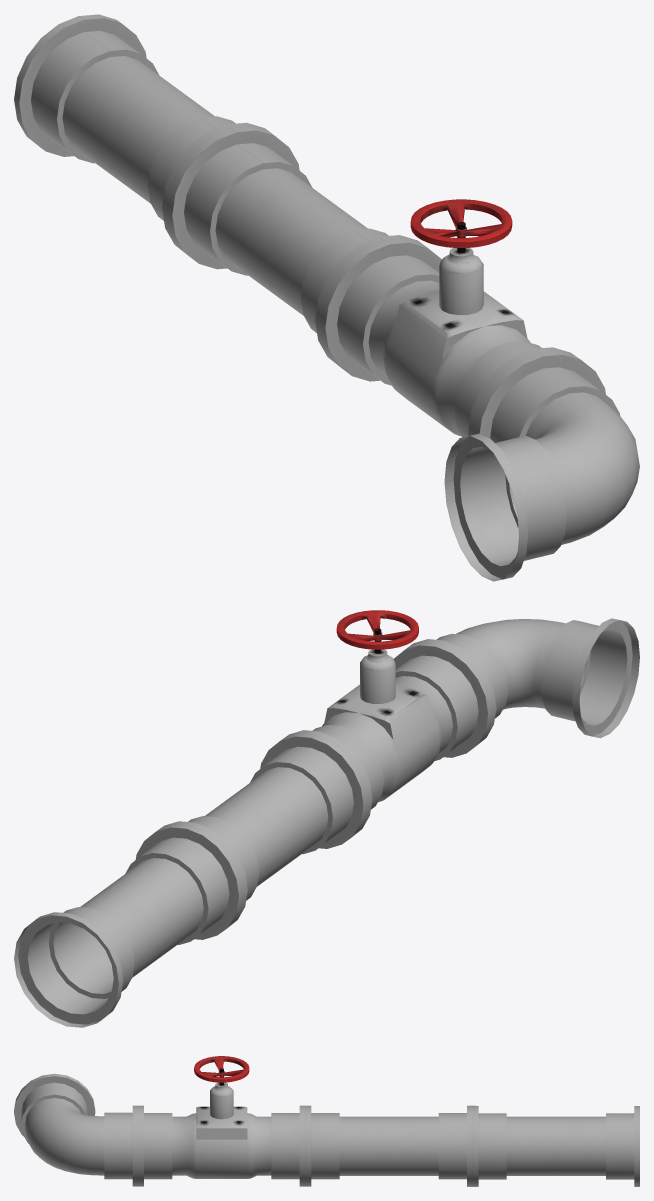
Rendered from tubes_040.fbx.
3 views of the same model, one above another, from view 1: azimuth 30°, elevation 25°; view 2: azimuth 150°, elevation 25°; view 3: azimuth 270°, elevation 25° (orthographic). The views are drawn at different scales.
Visible parts, largest first — view 1: Tube_Curve__3_; view 2: Tube_Curve__3_; view 3: Tube_Curve__3_.
Part boxes in pixels (left/top/right/bottom): Tube_Curve__3_: left=14, top=14, right=639, bottom=581; Tube_Curve__3_: left=14, top=610, right=639, bottom=1027; Tube_Curve__3_: left=14, top=1056, right=639, bottom=1186.
Bounding box in the file's own units: 0.6273 × 0.6449 × 3.15.
1 material, 1 textured.
